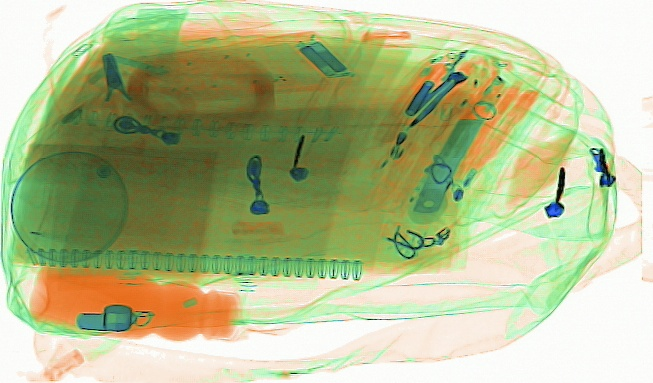scissors: (83, 51, 154, 130)
